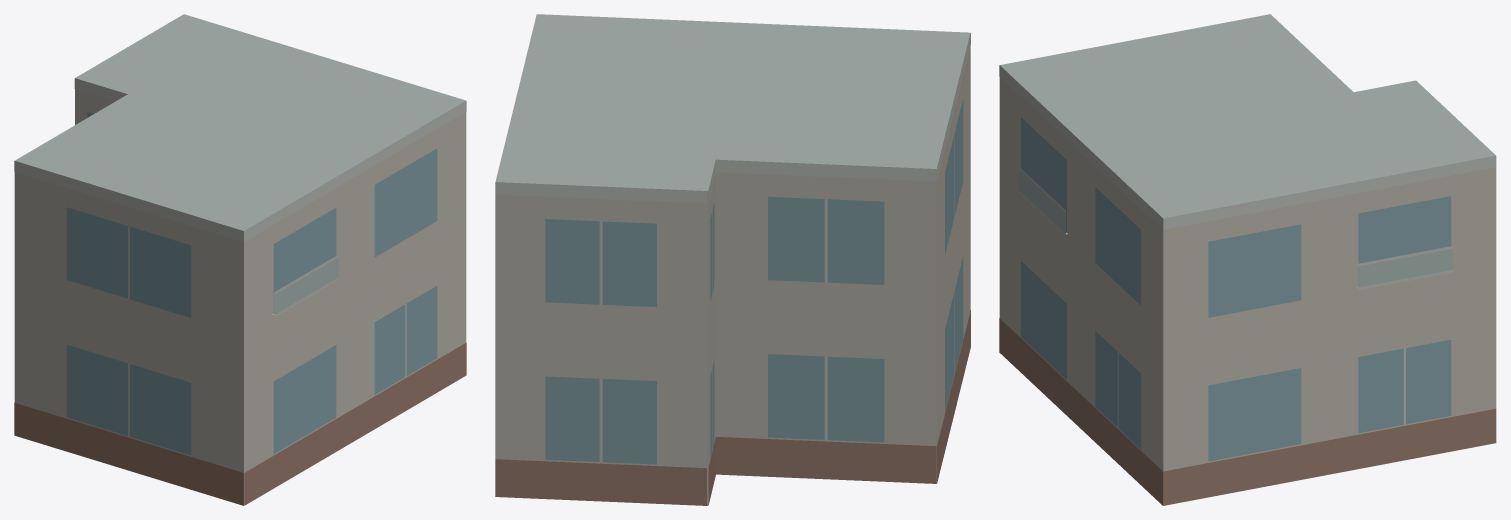
Rendered from survey-upis-32719288.glb.
3 renders of one model, left to right at view 1: azimuth 30°, elevation 25°; view 2: azimuth 150°, elevation 25°; view 3: azimuth 270°, elevation 25°, orthographic. The views are drawn at different scales.
Visible parts, largest first — view 1: survey-upis-32719288.tmp; view 2: survey-upis-32719288.tmp; view 3: survey-upis-32719288.tmp.
Boxes of the visible parts, x1=… form: survey-upis-32719288.tmp: x1=14, y1=14, x2=466, y2=505; survey-upis-32719288.tmp: x1=495, y1=14, x2=970, y2=505; survey-upis-32719288.tmp: x1=999, y1=14, x2=1496, y2=505.
Size of the model in its own units: 9.31 by 6.1 by 9.56.
